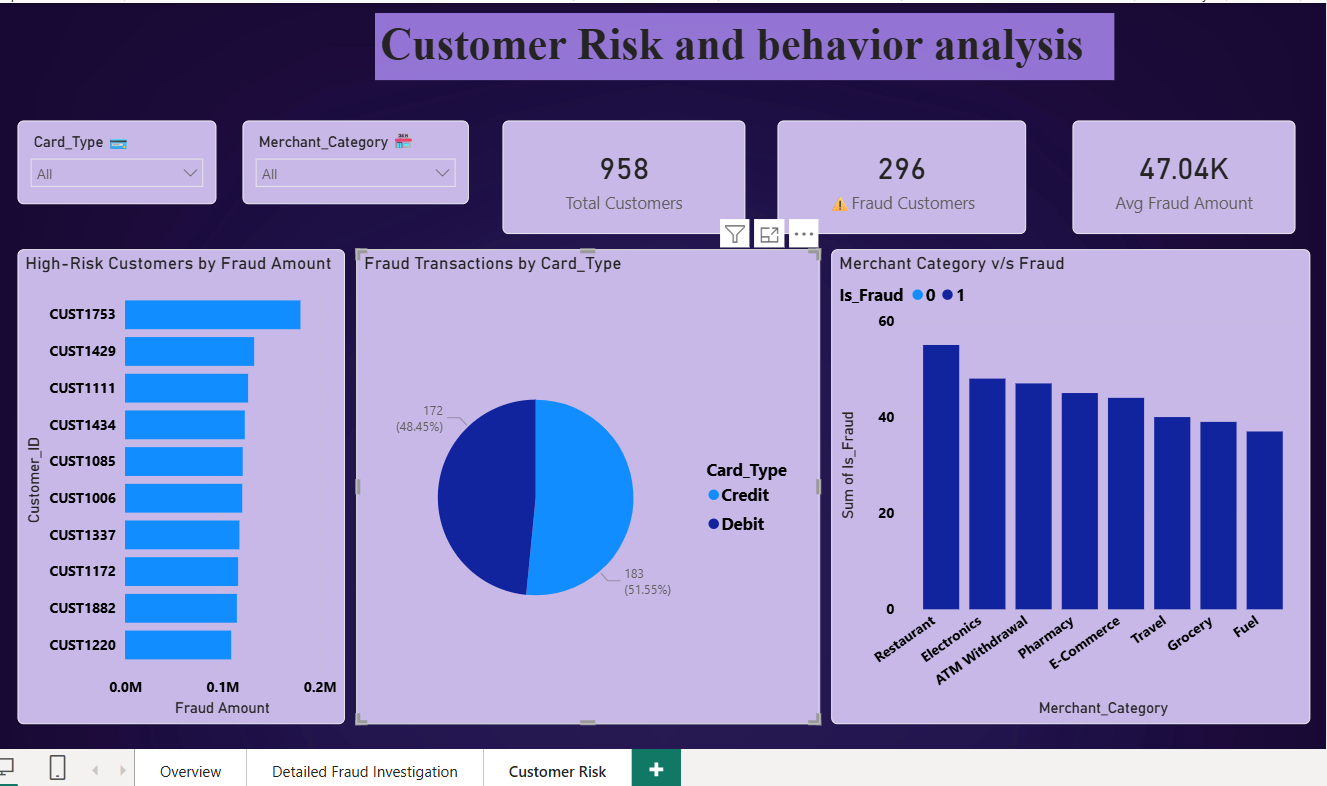

The dashboard page shown, as its layout file describes it:
{"tool":"powerbi","page":{"name":"Customer Risk","canvas":[1280,720],"ordinal":2},"visuals":[{"type":"textbox","box":[362.3,9.6,713.6,64.5],"z":0},{"type":"card","fields":{"Values":["Sheet1.Total Customers"]},"box":[484.4,113.9,234.6,109.8],"z":1000},{"type":"card","fields":{"Values":["Sheet1.Fraud Customers"]},"box":[750.6,113.9,240.1,109.8],"z":2000},{"type":"card","fields":{"Values":["Sheet1.Avg Fraud Amount"]},"box":[1034.7,113.9,215.4,109.8],"z":3000},{"type":"barChart","title":"High-Risk Customers by Fraud Amount","fields":{"Category":["Sheet1.Customer_ID"],"Y":["Sheet1.Fraud Amount"]},"box":[16.5,237.4,315.6,458.3],"z":4000},{"type":"pieChart","fields":{"Category":["Sheet1.Card_Type"],"Y":["Sheet1.Fraud Transactions"]},"box":[343.8,237.7,450,181],"z":5000},{"type":"columnChart","title":"Merchant Category v/s Fraud","fields":{"Category":["Sheet1.Merchant_Category"],"Y":["Sum(Sheet1.Is_Fraud)"],"Series":["Sheet1.Is_Fraud"]},"box":[802.7,237.4,462.4,458.3],"z":6000},{"type":"slicer","fields":{"Values":["Sheet1.Card_Type"]},"box":[16.5,113.9,192.1,81],"z":7000},{"type":"slicer","fields":{"Values":["Sheet1.Merchant_Category"]},"box":[234.6,113.9,218.2,81],"z":8000},{"type":"map","fields":{"Category":["Sheet1.City"],"Size":["Sheet1.Total Transactions"]},"box":[343.8,427.1,450,267.8],"z":9000}]}

Visuals, with their boxes on the page's 1280x720 design canvas (x1, y1, x2, y2). These are canvas units, not pixel positions in the 1327x786 screenshot, which may show the page scaled, cropped or inside an application window:
textbox: bbox=[362, 10, 1076, 74]
card - Sheet1.Total Customers: bbox=[484, 114, 719, 224]
card - Sheet1.Fraud Customers: bbox=[751, 114, 991, 224]
card - Sheet1.Avg Fraud Amount: bbox=[1035, 114, 1250, 224]
"High-Risk Customers by Fraud Amount" barChart: bbox=[16, 237, 332, 696]
pieChart - Sheet1.Card_Type x Sheet1.Fraud Transactions: bbox=[344, 238, 794, 419]
"Merchant Category v/s Fraud" columnChart: bbox=[803, 237, 1265, 696]
slicer - Sheet1.Card_Type: bbox=[16, 114, 209, 195]
slicer - Sheet1.Merchant_Category: bbox=[235, 114, 453, 195]
map - Sheet1.City x Sheet1.Total Transactions: bbox=[344, 427, 794, 695]
